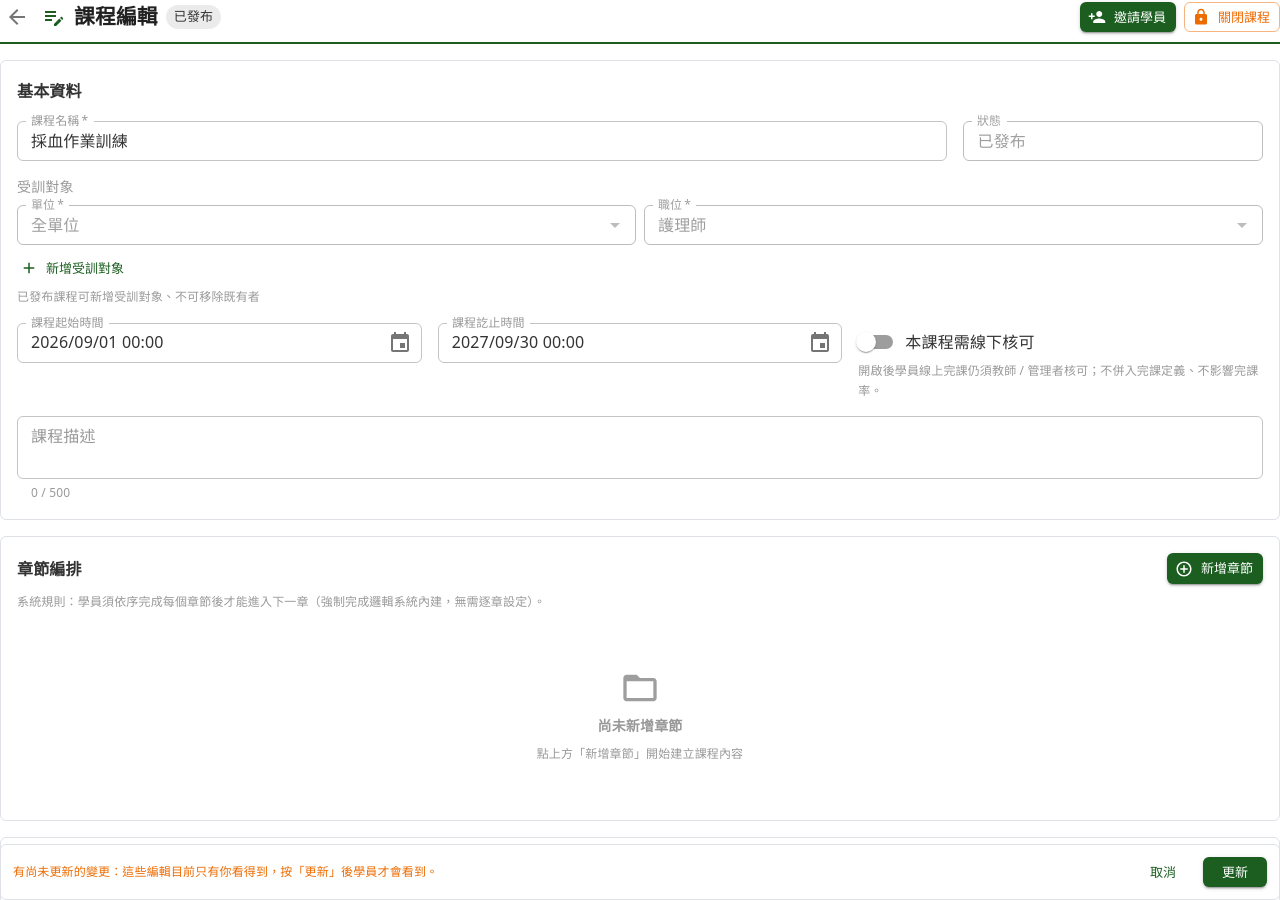
Test: ET05 更新（#631） › 暫存區是空的（applied_count 0）時不報「已更新」——那是一件沒發生的事
The image size is (1280, 900).
Click the button "更新" at (1235, 872), box [1203,856,1267,887]
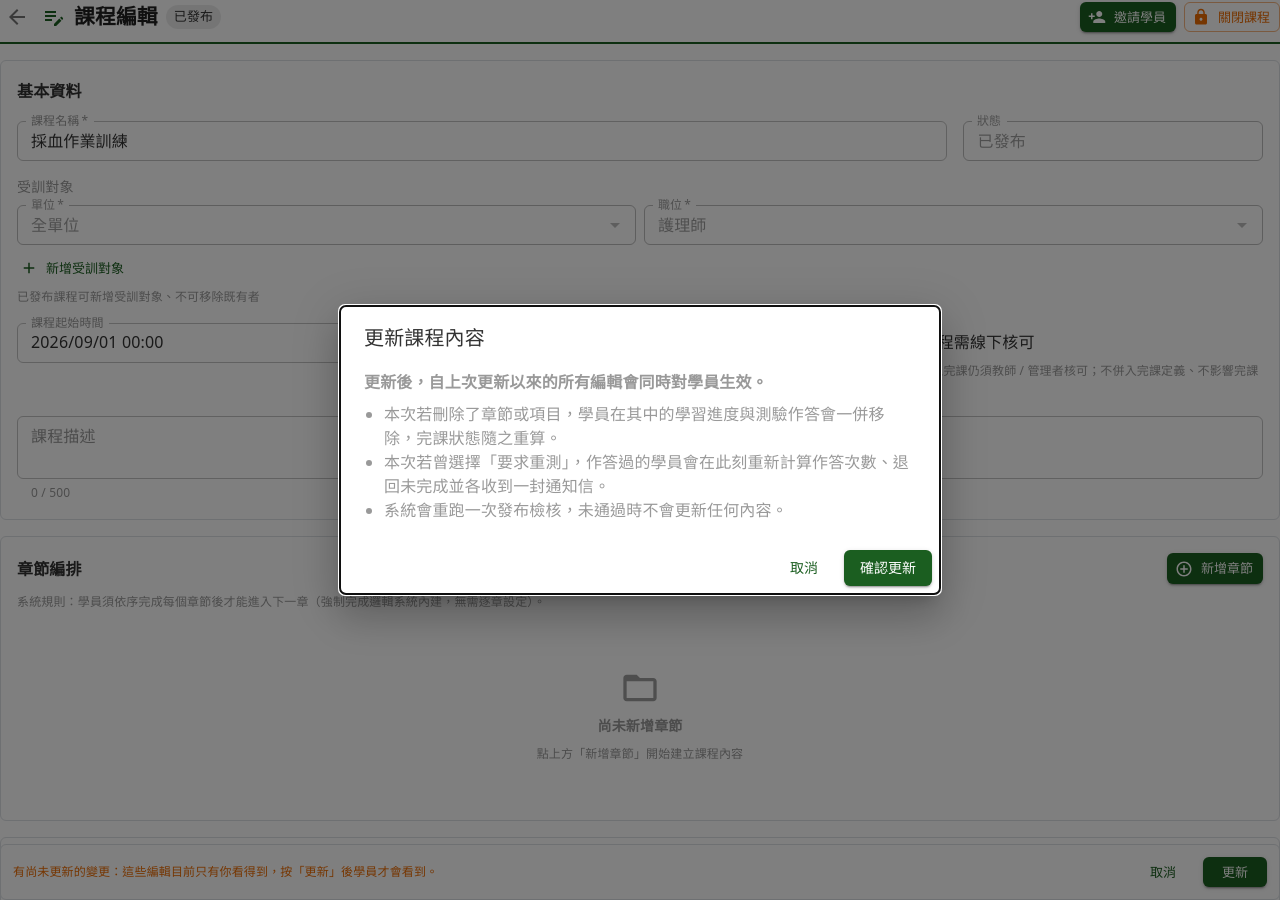
Click the button "確認更新" at (888, 568), box [844,550,932,586]
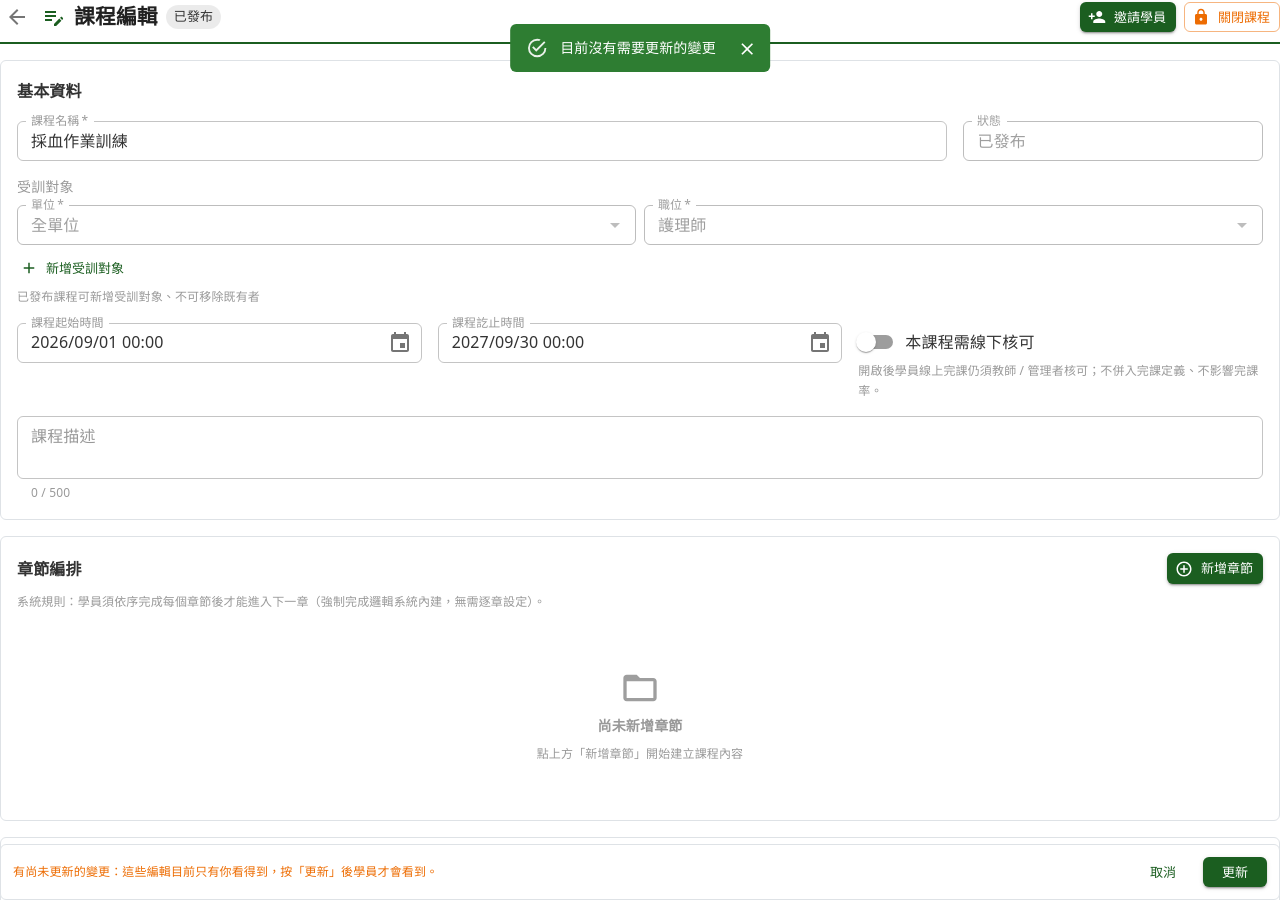
Expected: the text "目前沒有需要更新的變更" is shown, [560,38,716,57]
